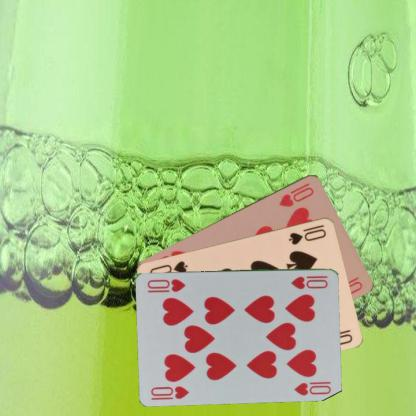10h: (277, 180, 315, 208), (148, 383, 190, 400), (289, 273, 329, 290)
10s: (286, 221, 328, 246)
